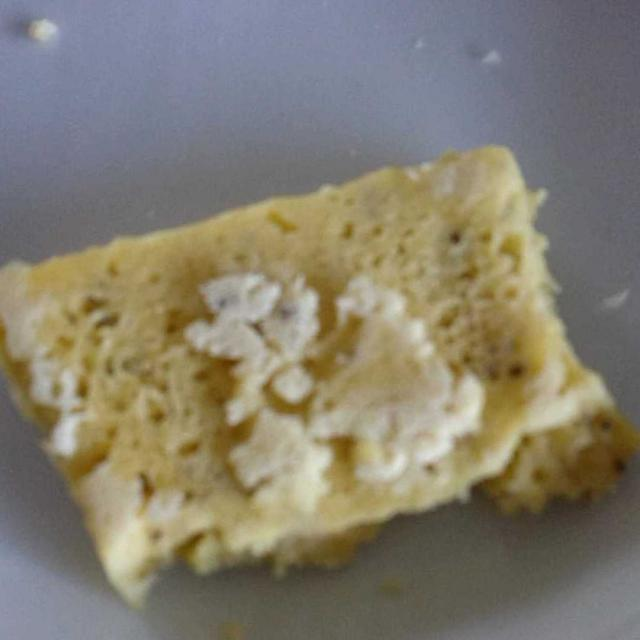bread: (8, 156, 631, 587)
